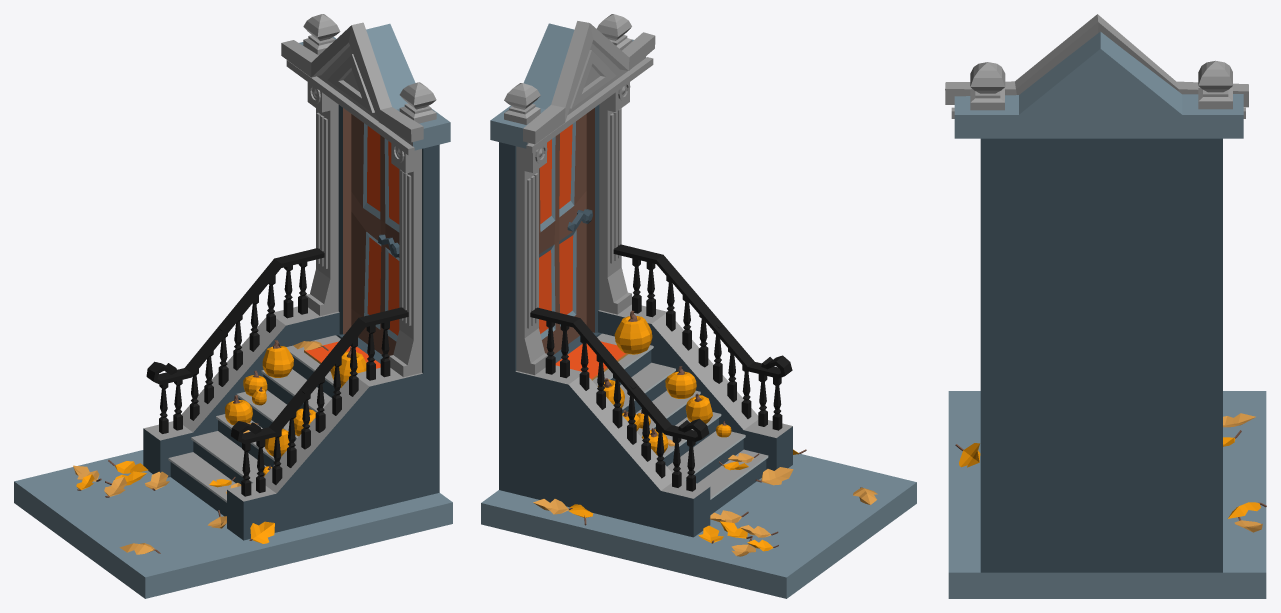
Rendered from Autumn Stoop by Don Carson - cY_E11vybIj.glb.
The picture shows the model from 3 angles, left to right: view 1: azimuth 30°, elevation 25°; view 2: azimuth 150°, elevation 25°; view 3: azimuth 270°, elevation 25°; orthographic projection. The views are drawn at different scales.
Visible parts, largest first — view 1: group609223093, group1767125585, group1981419782, group2025017720, group2125857140, group1386764545, group1664694086, group995210899, group300616231, group870744175, group1588184306, group469618091 (+9 smaller); view 2: group609223093, group2125857140, group1981419782, group2025017720, group1767125585, group1386764545, group1664694086, group995210899, group300616231, group1588184306, group870744175, group469618091 (+11 smaller); view 3: group1981419782, group609223093, group300616231, group1386764545, group1770340103, group601862566.
Part boxes in pixels (x1,y1,x2,y2): group609223093: (14, 450, 452, 598); group1767125585: (227, 367, 423, 540); group1981419782: (336, 105, 439, 496); group2025017720: (168, 335, 340, 516); group2125857140: (143, 306, 339, 477); group1386764545: (281, 22, 423, 142); group1664694086: (241, 321, 390, 496); group995210899: (159, 262, 307, 433); group300616231: (299, 23, 450, 150); group870744175: (389, 143, 421, 377); group1588184306: (305, 82, 338, 315); group469618091: (146, 248, 324, 384); group609223093: (481, 454, 916, 598); group2125857140: (515, 365, 710, 537); group1981419782: (499, 104, 601, 493); group2025017720: (592, 333, 768, 514); group1767125585: (598, 304, 792, 470); group1386764545: (523, 21, 655, 144); group1664694086: (632, 258, 782, 430); group995210899: (545, 321, 695, 491); group300616231: (490, 23, 645, 148); group1588184306: (516, 143, 547, 375); group870744175: (599, 82, 631, 314); group469618091: (530, 307, 709, 441); group1981419782: (980, 138, 1222, 572); group609223093: (948, 391, 1266, 598); group300616231: (954, 31, 1243, 138); group1386764545: (945, 14, 1248, 107); group1770340103: (970, 62, 1005, 110); group601862566: (1198, 60, 1232, 109).
Size of the model in its own units: 1.49 by 2.15 by 1.11.
